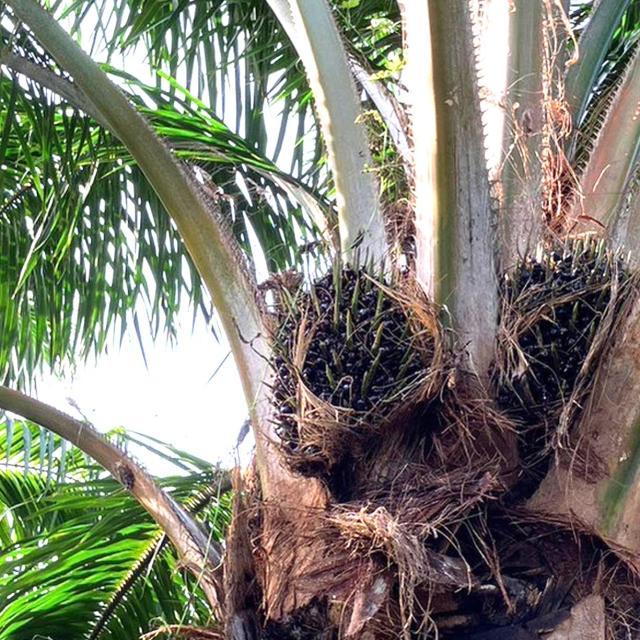unripe: (243, 239, 444, 465)
